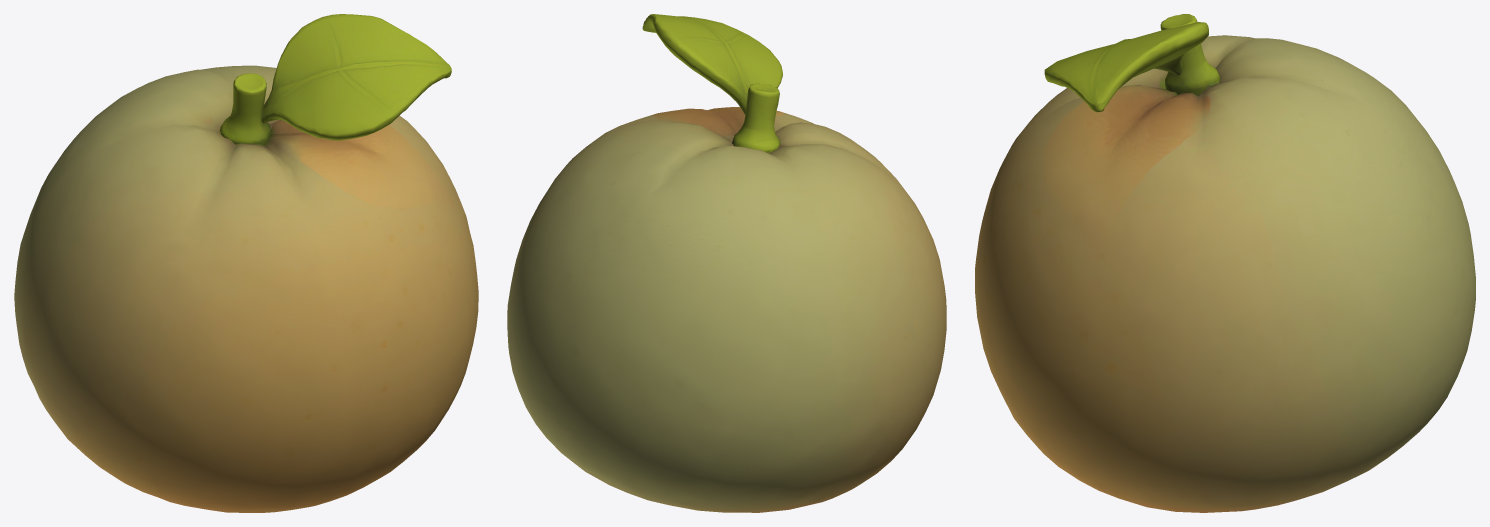
Rendered from orange-fruit.glb.
3 renders of one model, left to right at view 1: azimuth 30°, elevation 25°; view 2: azimuth 150°, elevation 25°; view 3: azimuth 270°, elevation 25°, orthographic. The views are drawn at different scales.
Visible parts, largest first — view 1: Leaf Top Orange; view 2: Leaf Top Orange; view 3: Leaf Top Orange.
Part boxes in pixels (x1,y1,x2,y2): Leaf Top Orange: (14, 14, 478, 512); Leaf Top Orange: (507, 14, 946, 512); Leaf Top Orange: (975, 14, 1475, 512).
Bounding box in the file's own units: 0.9355 × 0.998 × 0.9277.
1 material, 1 textured.
